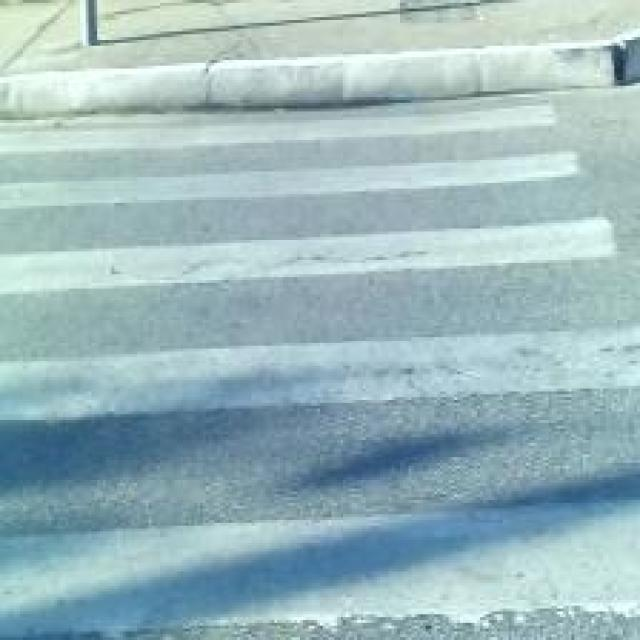walk-crossing: (10, 123, 564, 640)
